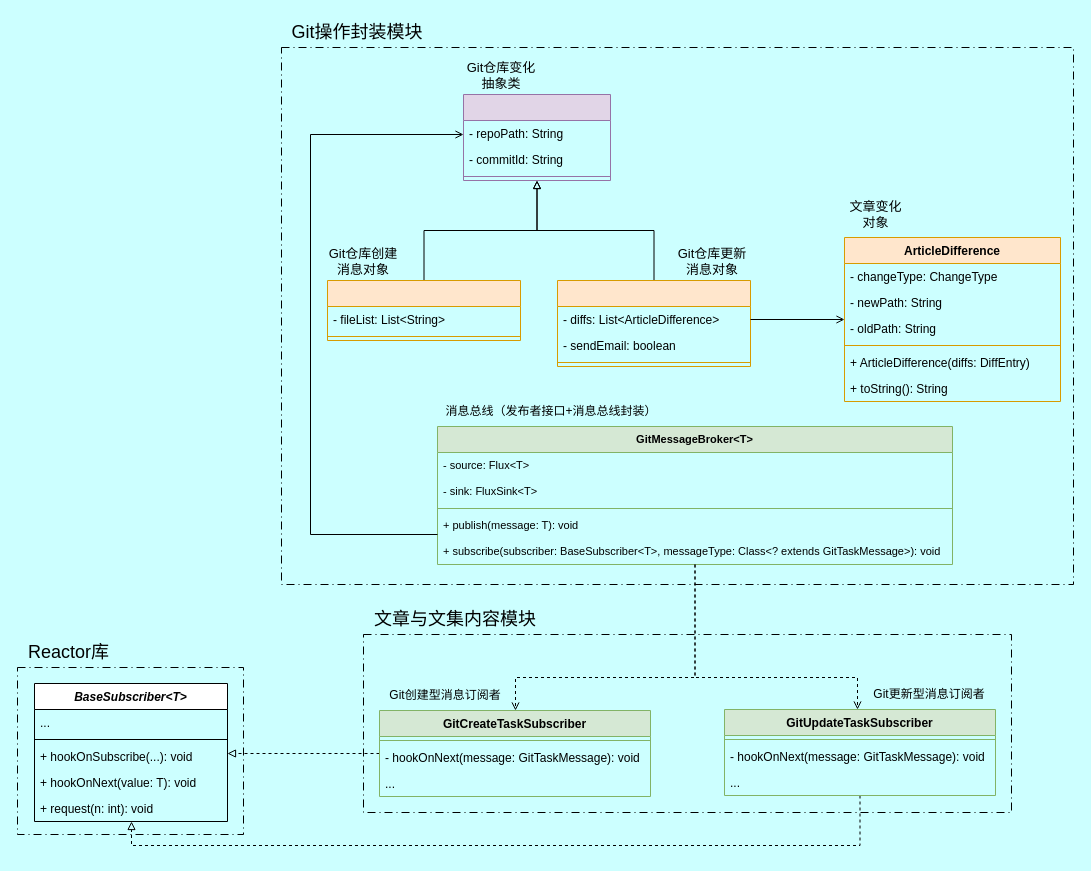
This 1091x871 diagram has some shape labels left out. Here are the shapes that lost their labels. From the top down, the box of each, then its label:
(462, 94, 610, 180): GitTaskMessage
(326, 280, 520, 340): GitCreateTaskMessage
(556, 280, 750, 366): GitUpdateTaskMessage
